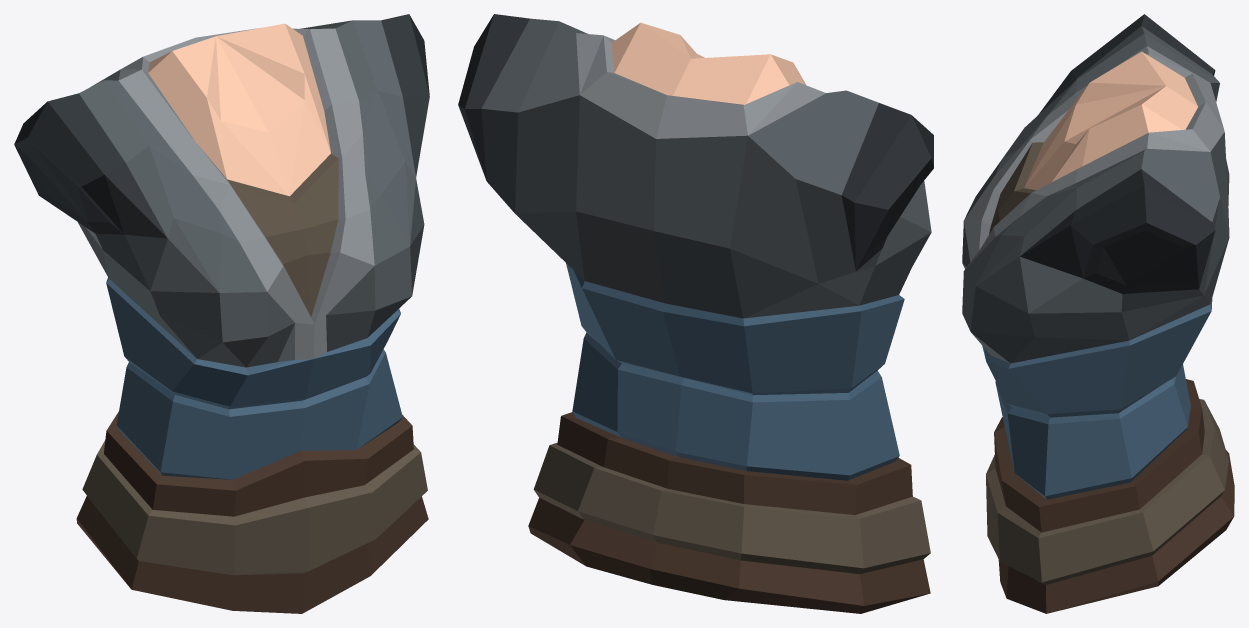
The model's file is Chr_Torso_Female_11_Static.fbx.
3 renders of one model, left to right at view 1: azimuth 30°, elevation 25°; view 2: azimuth 150°, elevation 25°; view 3: azimuth 270°, elevation 25°, orthographic. The views are drawn at different scales.
Parts seen in each view (by area): view 1: Chr_Torso_Female_11_Static; view 2: Chr_Torso_Female_11_Static; view 3: Chr_Torso_Female_11_Static.
Boxes of the visible parts, x1,y1,x2,y2 form: Chr_Torso_Female_11_Static: (14, 14, 429, 613); Chr_Torso_Female_11_Static: (458, 14, 933, 613); Chr_Torso_Female_11_Static: (962, 14, 1234, 613).
Bounding box in the file's own units: 0.5172 × 0.652 × 0.3195.
